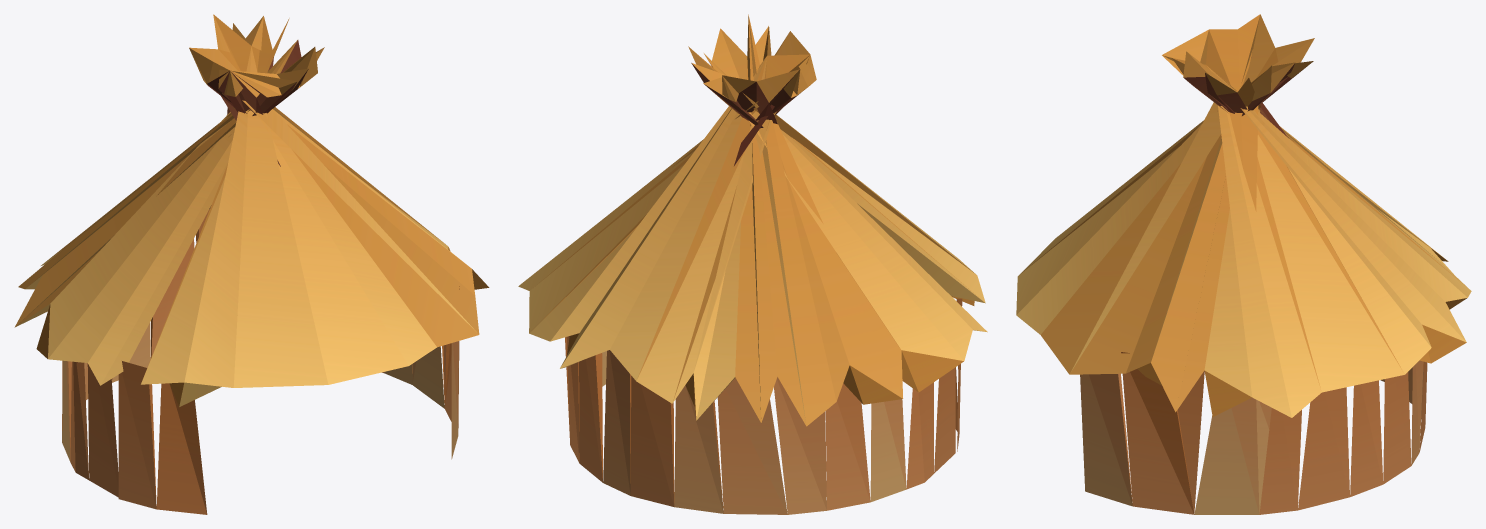
The model's file is GL-Manmade-09-LOD3.fbx.
3 views of the same model, side by side, from view 1: azimuth 30°, elevation 25°; view 2: azimuth 150°, elevation 25°; view 3: azimuth 270°, elevation 25° (orthographic).
Visible parts, largest first — view 1: GL_Manmade_09; view 2: GL_Manmade_09; view 3: GL_Manmade_09.
Boxes of the visible parts, x1,y1,x2,y2 form: GL_Manmade_09: (14, 14, 489, 514); GL_Manmade_09: (518, 14, 987, 514); GL_Manmade_09: (1016, 14, 1471, 514).
Bounding box in the file's own units: 2.2 × 2 × 2.05.
